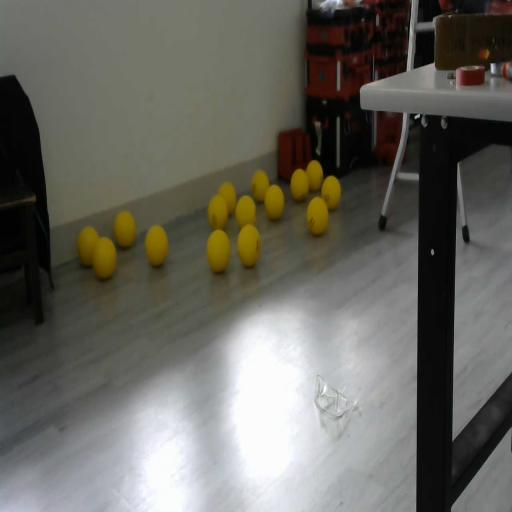FUEL: (205, 228, 232, 274), (236, 222, 262, 267), (144, 225, 168, 267), (76, 226, 100, 266), (305, 196, 329, 236), (114, 210, 136, 248), (235, 194, 257, 229), (264, 183, 284, 220), (217, 181, 237, 217), (321, 175, 341, 210), (290, 168, 309, 202), (305, 159, 324, 192), (251, 169, 269, 203)
